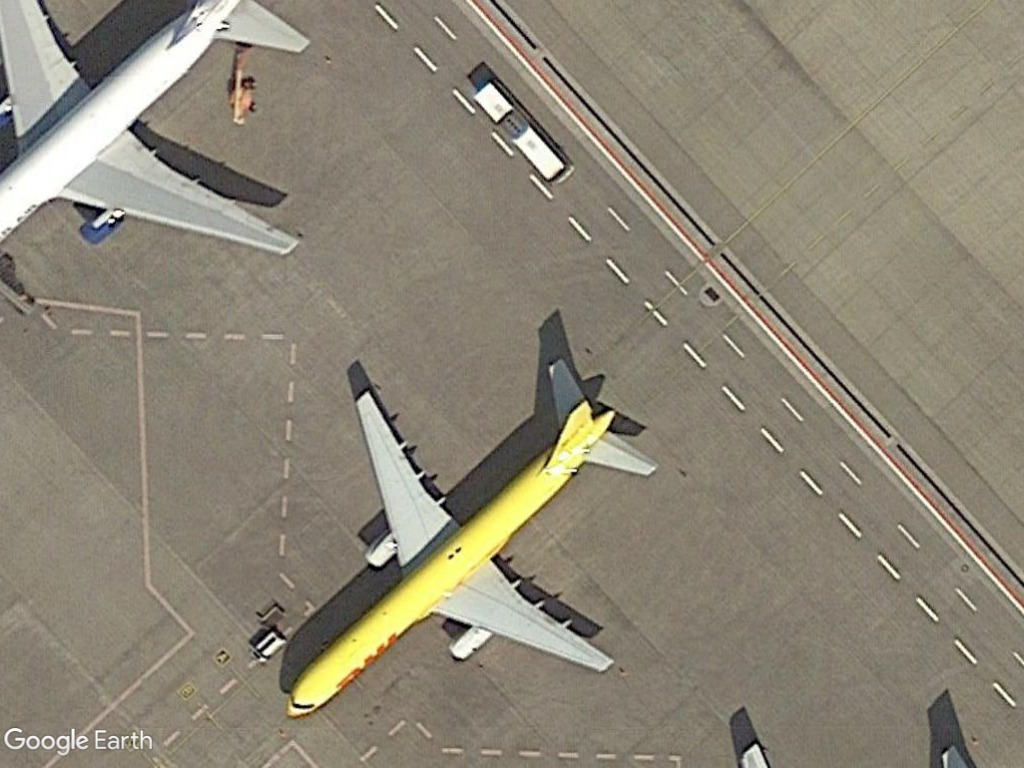airliner: (280, 356, 665, 724)
bus: (469, 78, 578, 186)
